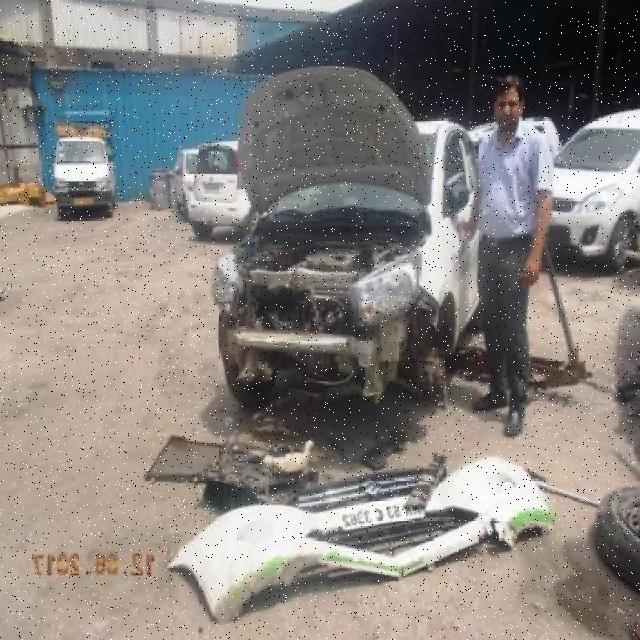damage: (207, 278, 431, 409)
